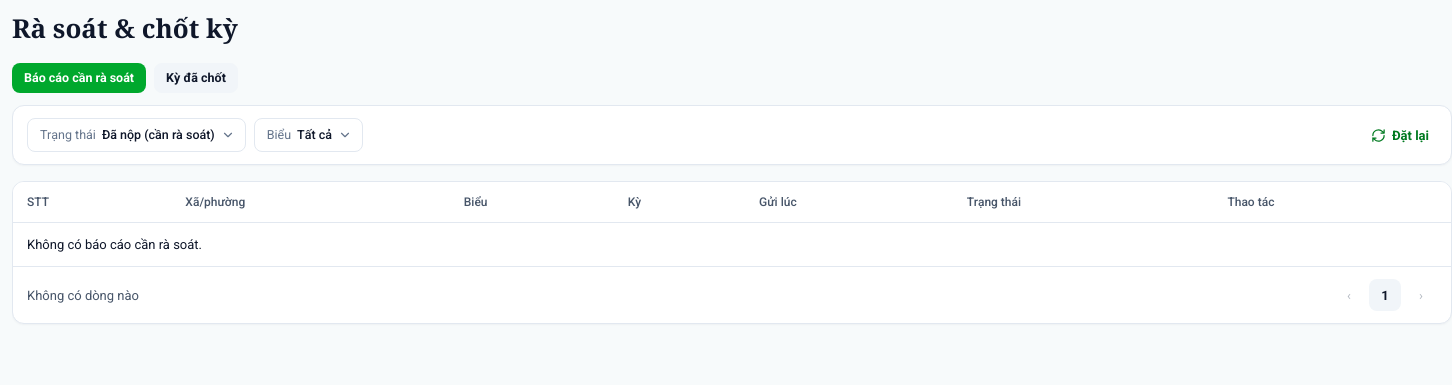
Test case: Rà soát & chốt kỳ — Kỳ đã chốt (TT-04) › liệt kê kỳ đã chốt: đợt, biểu, kỳ, chốt lúc, người chốt (log) hoặc hệ thống tự chốt, trạng thái
Click the tab "Kỳ đã chốt".
click(196, 78)  # box [154,62,238,93]
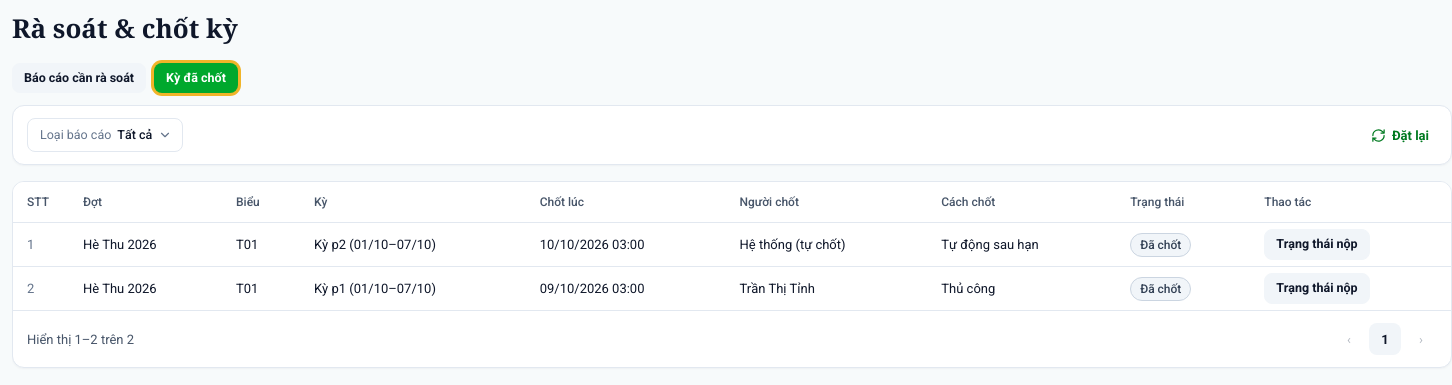
Now the 2nd row shows "Kỳ p2", box [314,237,436,252]
Now the 2nd row shows "Hệ thống (tự chốt)", box [740,237,846,252]
Now the 2nd row shows "Tự động sau hạn", box [941,237,1039,252]
